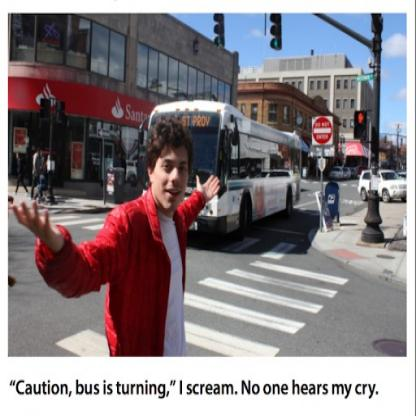Crosswalk: (188, 256, 350, 356)
Don-t Walk: (353, 112, 370, 127)
Traffic Signal: (267, 10, 282, 50), (211, 10, 227, 47)
